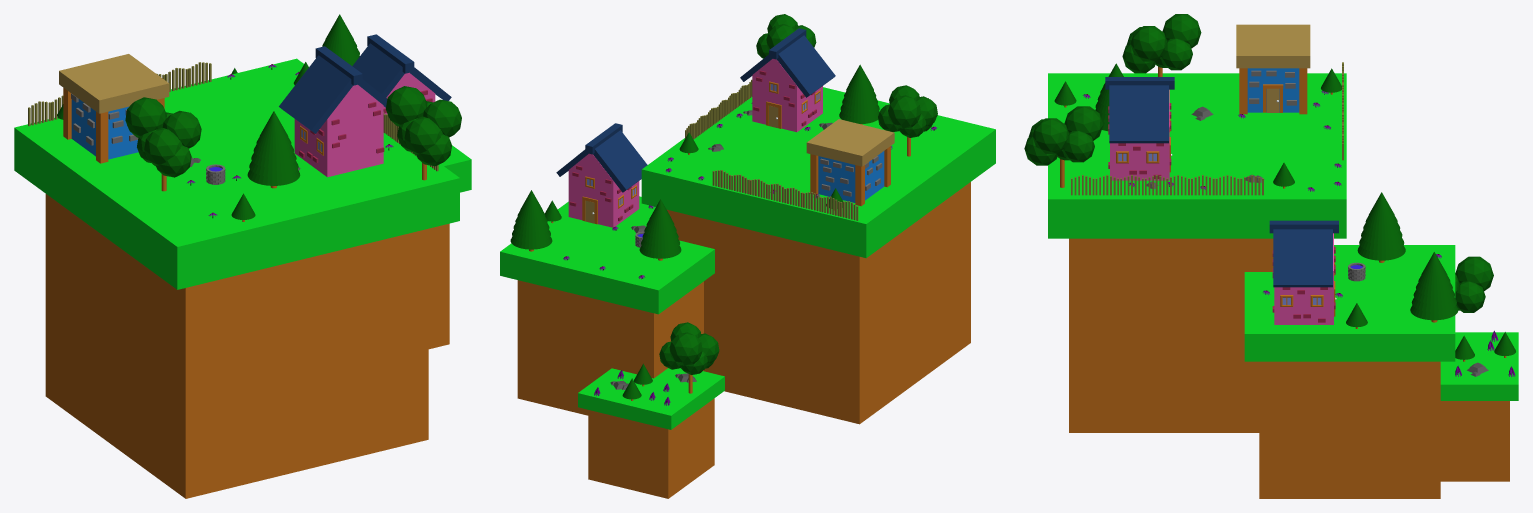
The model's file is EnviromentObjects.fbx.
3 views of the same model, side by side, from view 1: azimuth 30°, elevation 25°; view 2: azimuth 150°, elevation 25°; view 3: azimuth 270°, elevation 25° (orthographic). The views are drawn at different scales.
Visible parts, largest first — view 1: Cube.001, Cube.009, Cube.111, Cube.032, Cylinder.002, Cylinder.025, Cube.025, Cube.184, Cone.006, Cube.106, Cube.189, Cone.001 (+5 smaller); view 2: Cube.001, Cube.009, Cube.184, Cube.185, Cube.186, Cube.187, Cube.111, Cube.190, Cylinder.033, Cylinder.002, Cube.032, Cube.025 (+8 smaller); view 3: Cube.001, Cube.009, Cube.184, Cube.185, Cube.186, Cube.187, Cube.017, Cube.188, Cylinder.025, Cube.111, Cylinder.002, Cone.002 (+8 smaller).
Boxes of the visible parts, box(x1,y1,x2,y2) form: Cube.001: box(45, 194, 428, 498); Cube.009: box(14, 58, 459, 289); Cube.111: box(59, 54, 169, 113); Cube.032: box(294, 105, 383, 177); Cylinder.002: box(125, 97, 201, 191); Cylinder.025: box(386, 86, 461, 180); Cube.025: box(279, 55, 353, 133); Cube.184: box(428, 223, 449, 349); Cone.006: box(247, 111, 300, 188); Cube.106: box(71, 99, 138, 159); Cube.189: box(352, 43, 404, 97); Cone.001: box(322, 14, 359, 65); Cube.001: box(667, 182, 970, 424); Cube.009: box(641, 87, 995, 258); Cube.184: box(517, 280, 703, 415); Cube.185: box(500, 196, 714, 314); Cube.186: box(588, 398, 714, 498); Cube.187: box(578, 368, 724, 429); Cube.111: box(806, 119, 894, 166); Cube.190: box(568, 170, 639, 227); Cylinder.033: box(659, 322, 719, 393); Cylinder.002: box(878, 85, 937, 156); Cube.032: box(752, 75, 822, 132); Cube.025: box(776, 35, 835, 97); Cube.001: box(1069, 238, 1273, 432); Cube.009: box(1048, 73, 1346, 238); Cube.184: box(1259, 361, 1440, 498); Cube.185: box(1244, 245, 1455, 361); Cube.186: box(1440, 401, 1509, 481); Cube.187: box(1440, 332, 1518, 400); Cube.017: box(1109, 85, 1168, 143); Cube.188: box(1273, 229, 1332, 287); Cylinder.025: box(1024, 106, 1103, 187); Cube.111: box(1236, 24, 1310, 68); Cylinder.002: box(1122, 14, 1201, 76); Cone.002: box(1357, 192, 1405, 262).
Bounding box in the file's own units: 3306 × 3278 × 3853.
